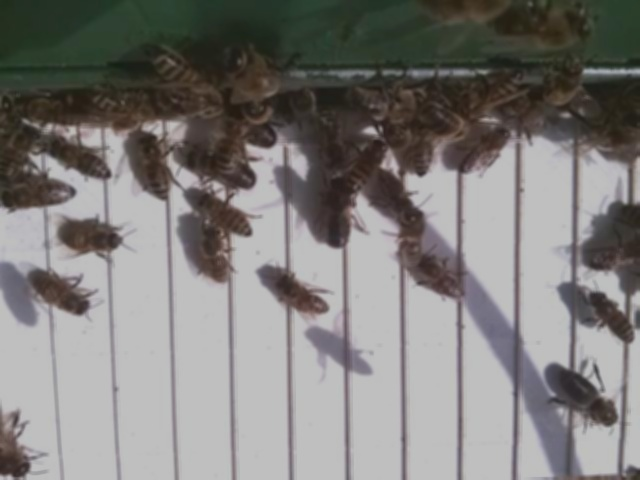Drone: (555, 365, 625, 433), (182, 150, 260, 195), (322, 173, 356, 253)
Worker: (30, 268, 92, 321), (588, 288, 638, 349), (52, 140, 116, 185), (136, 129, 173, 205), (457, 126, 510, 178), (200, 192, 258, 239), (0, 180, 80, 214), (61, 219, 127, 258), (275, 275, 332, 320), (346, 140, 390, 196), (198, 226, 232, 290), (420, 260, 467, 305), (398, 206, 430, 269)
